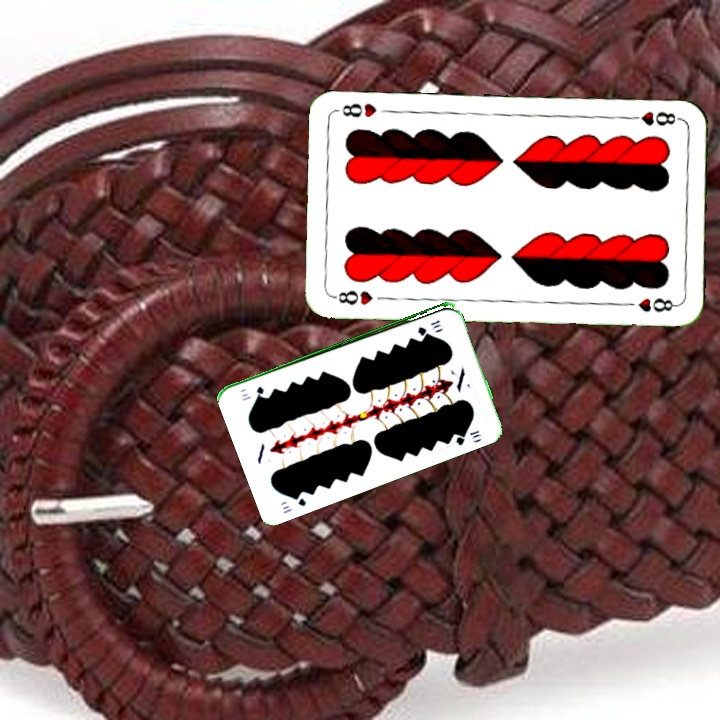G10: (279, 490, 308, 516), (413, 316, 443, 336)
H8: (624, 107, 683, 129), (329, 286, 375, 308)
